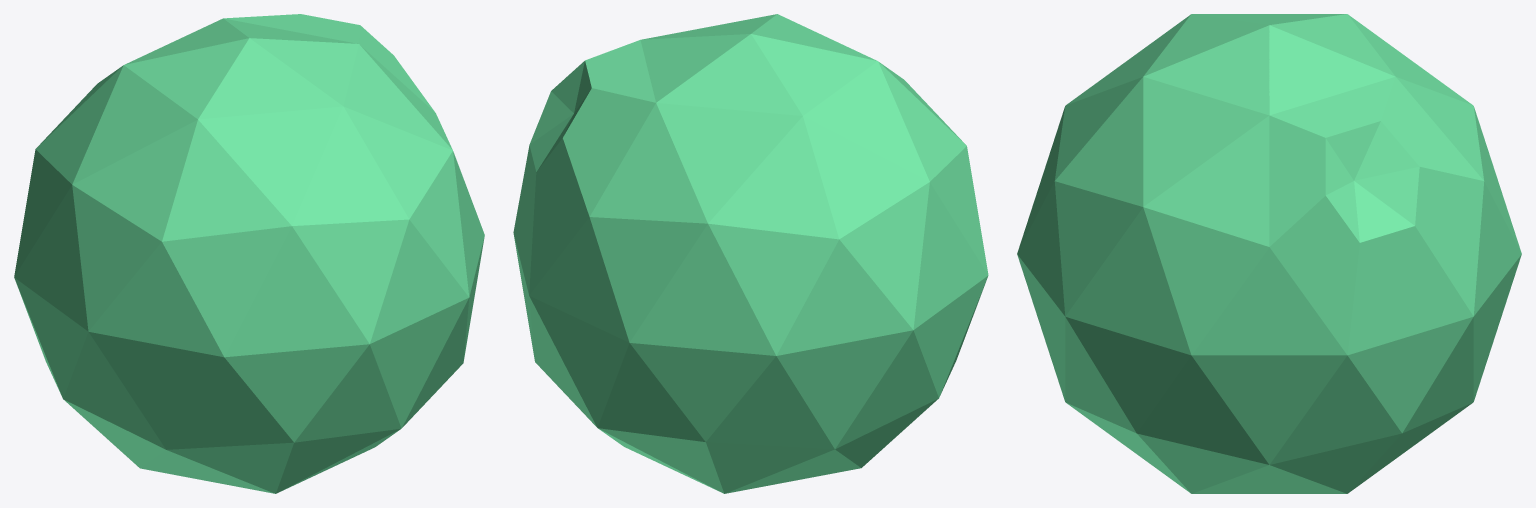
The picture shows the model from 3 angles, left to right: view 1: azimuth 30°, elevation 25°; view 2: azimuth 150°, elevation 25°; view 3: azimuth 270°, elevation 25°; orthographic projection. The views are drawn at different scales.
Parts seen in each view (by area): view 1: Icosphere; view 2: Icosphere; view 3: Icosphere.
Part boxes in pixels (box(x1,y1,x2,y2)): Icosphere: box(14, 14, 484, 493); Icosphere: box(513, 14, 988, 493); Icosphere: box(1017, 14, 1521, 493).
Size of the model in its own units: 9.67 by 10.17 by 10.17.
